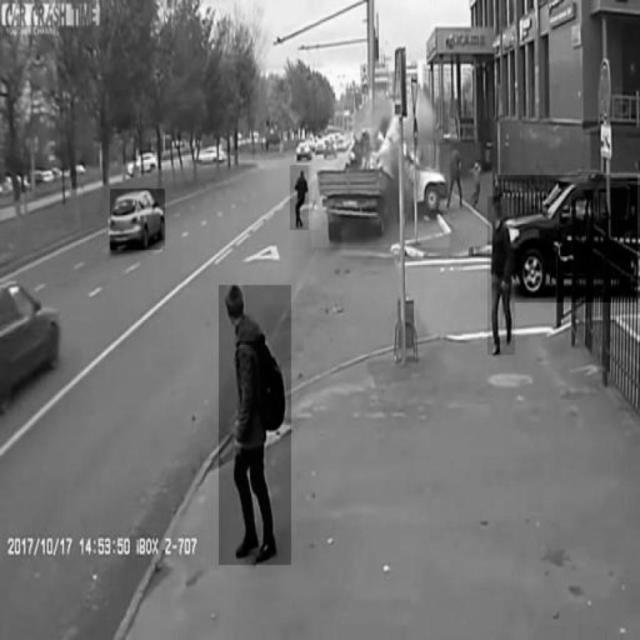accident: (311, 145, 449, 247)
person: (220, 285, 292, 566), (488, 197, 515, 355), (290, 165, 308, 229)
vehicle: (498, 175, 638, 303), (110, 189, 165, 250)
